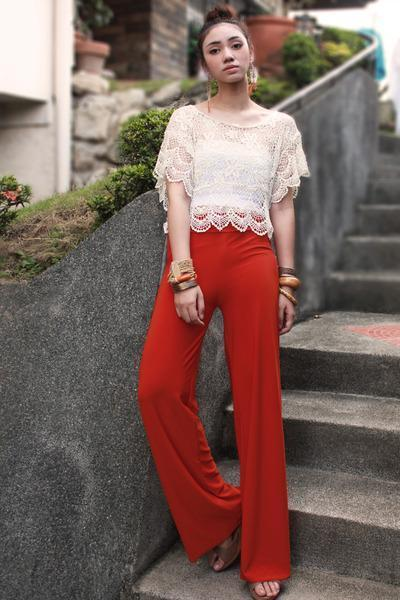pants: (138, 222, 289, 581)
shirt: (156, 105, 309, 232)
shoe: (212, 528, 287, 599)
